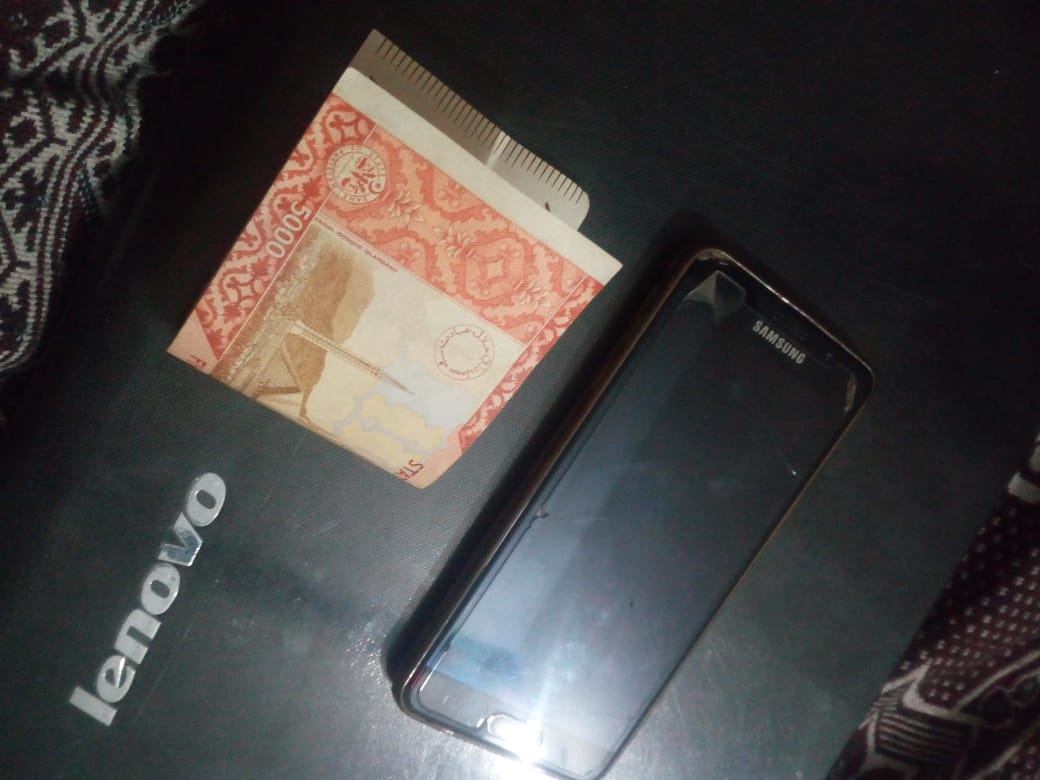5000 rupee: (178, 58, 610, 500)
